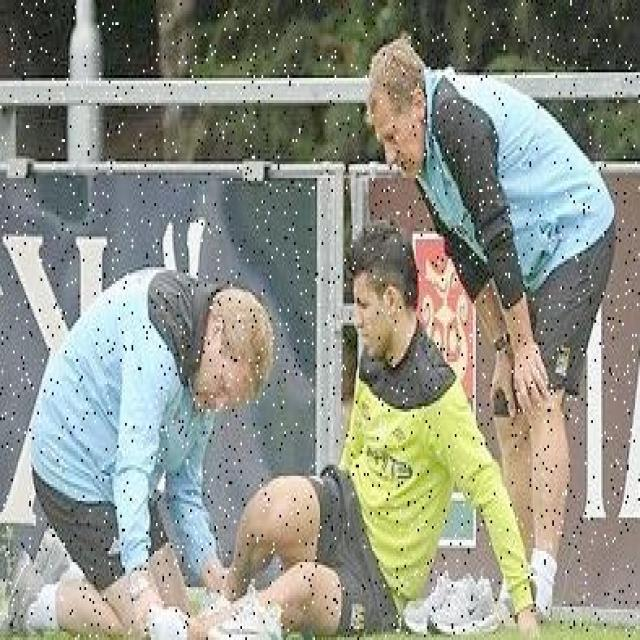fall: (239, 214, 468, 637)
